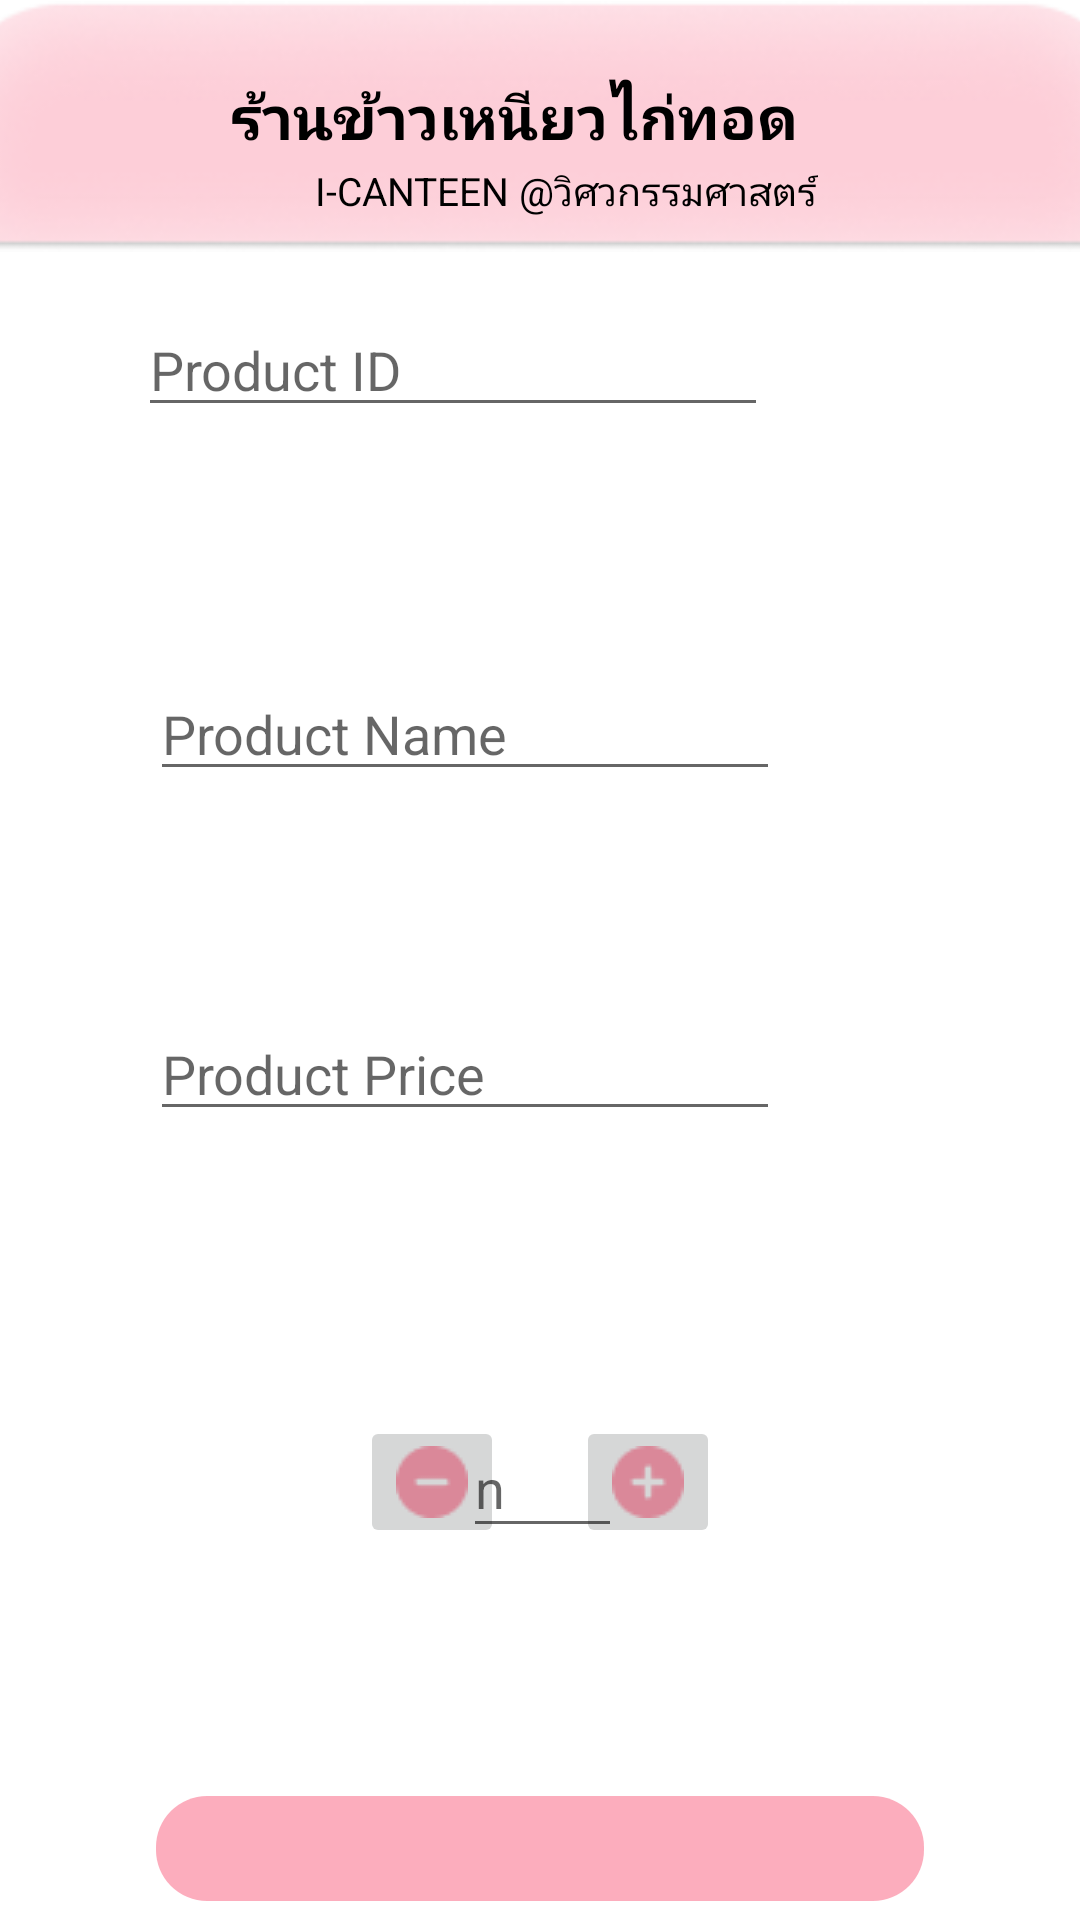

Screen size 1080*1920. Icon name, then its box in pixels as (x1, y1, x2, y2):
minus order: (372, 1434, 504, 1530)
plus order: (576, 1434, 708, 1530)
